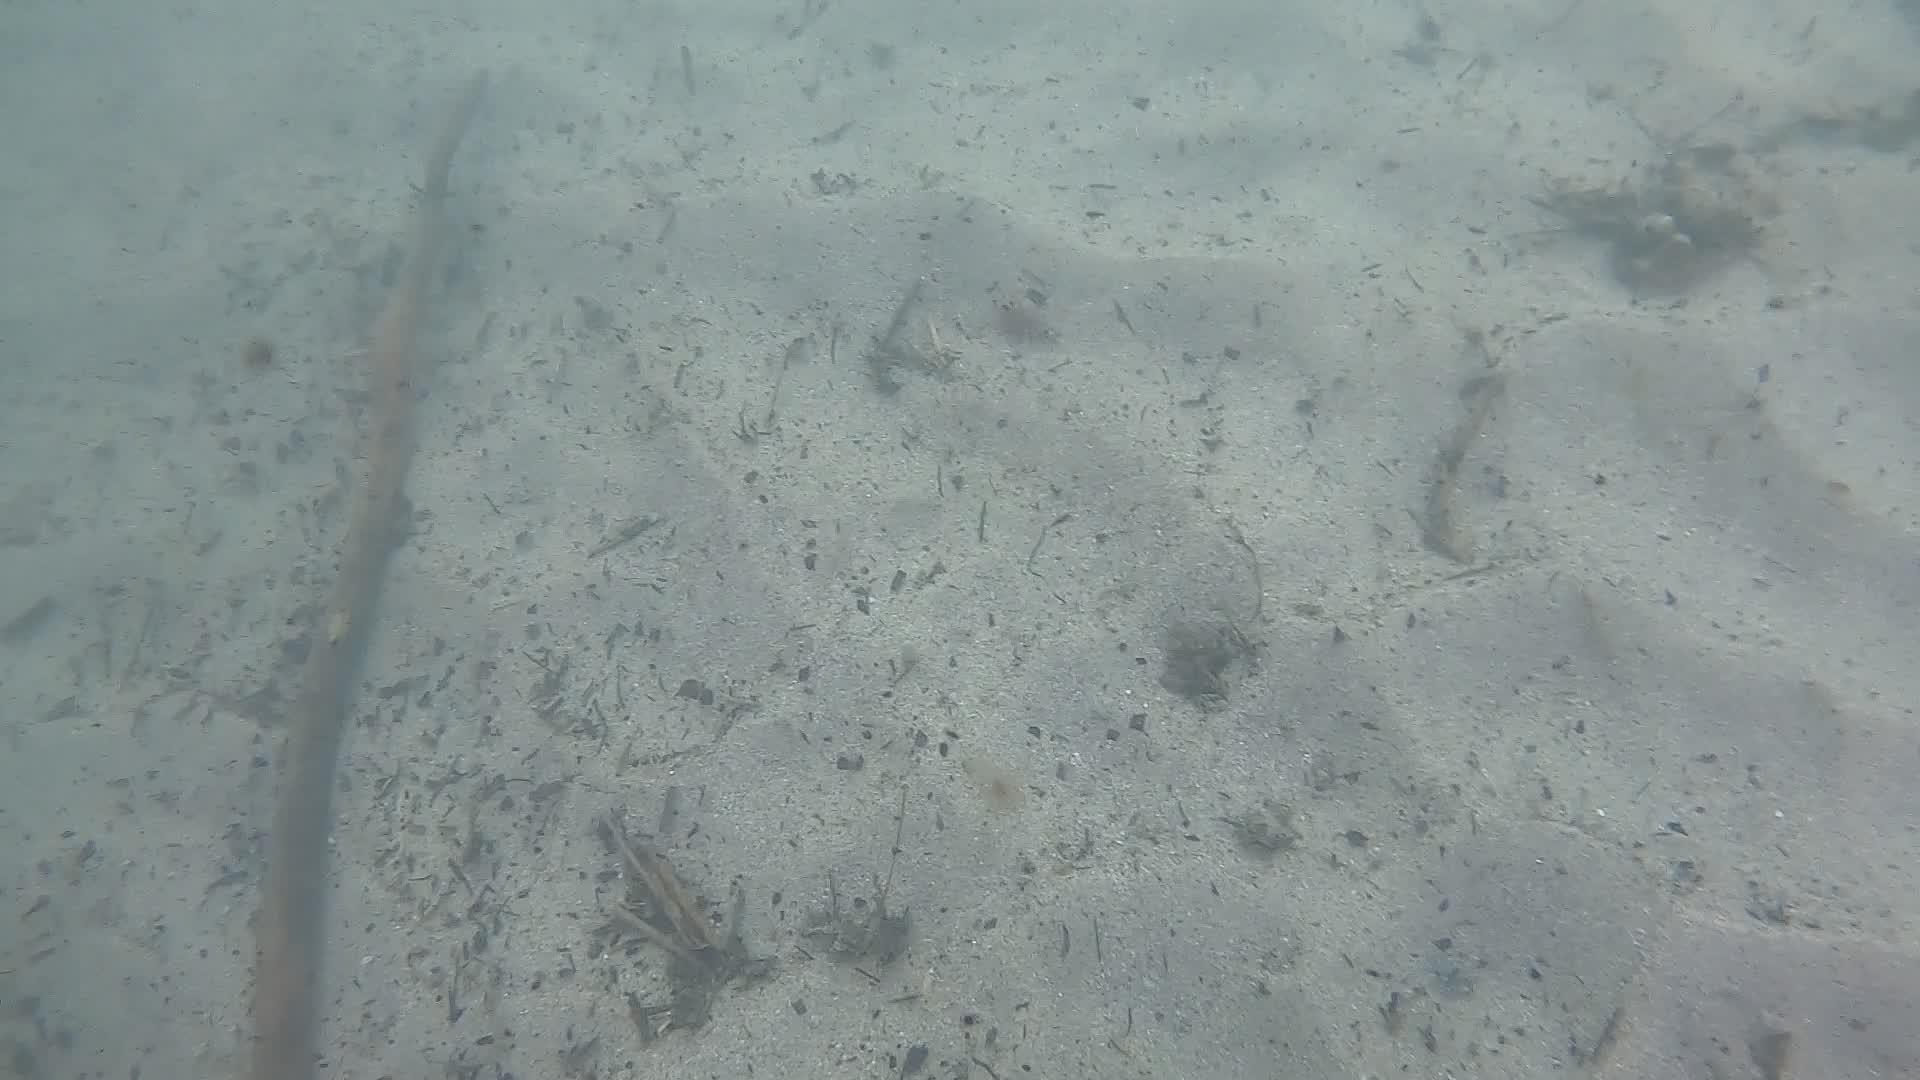wood: (245, 63, 489, 1080)
